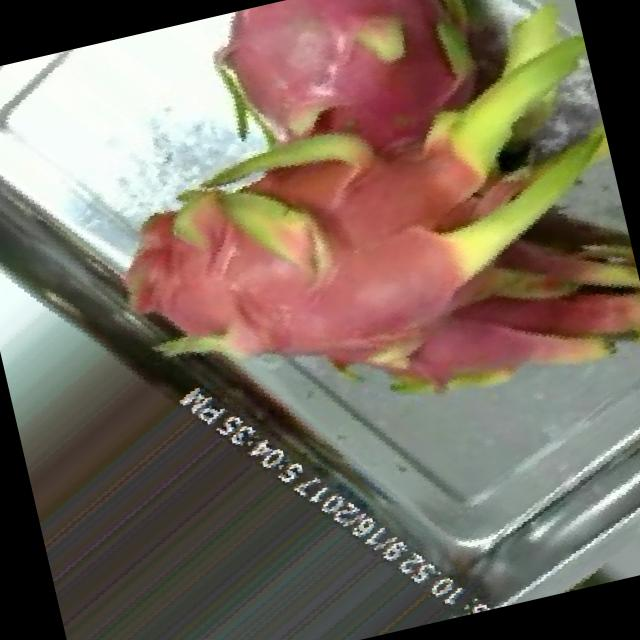Fruit: (496, 0, 578, 31)
